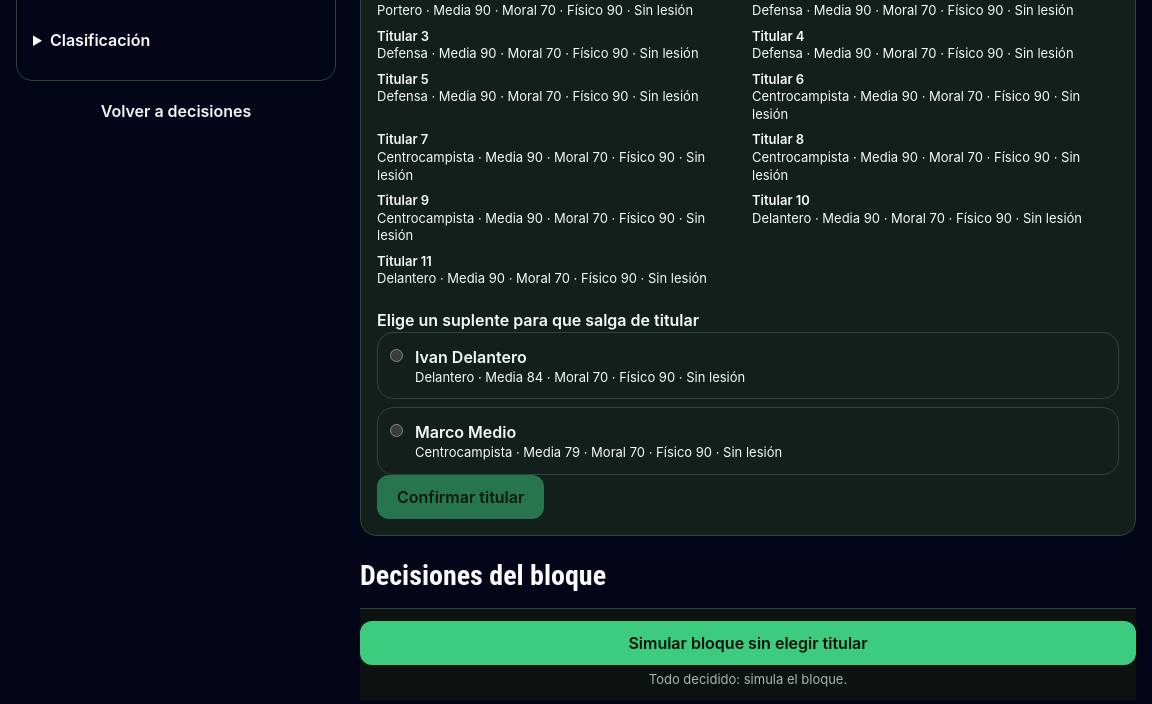
Test case: blocks selecting a starter while an advance has an uncertain outcome
(page scrolled)
Step 1. Click the button "Simular bloque sin elegir titular" → (748, 643), box [360, 621, 1136, 665]
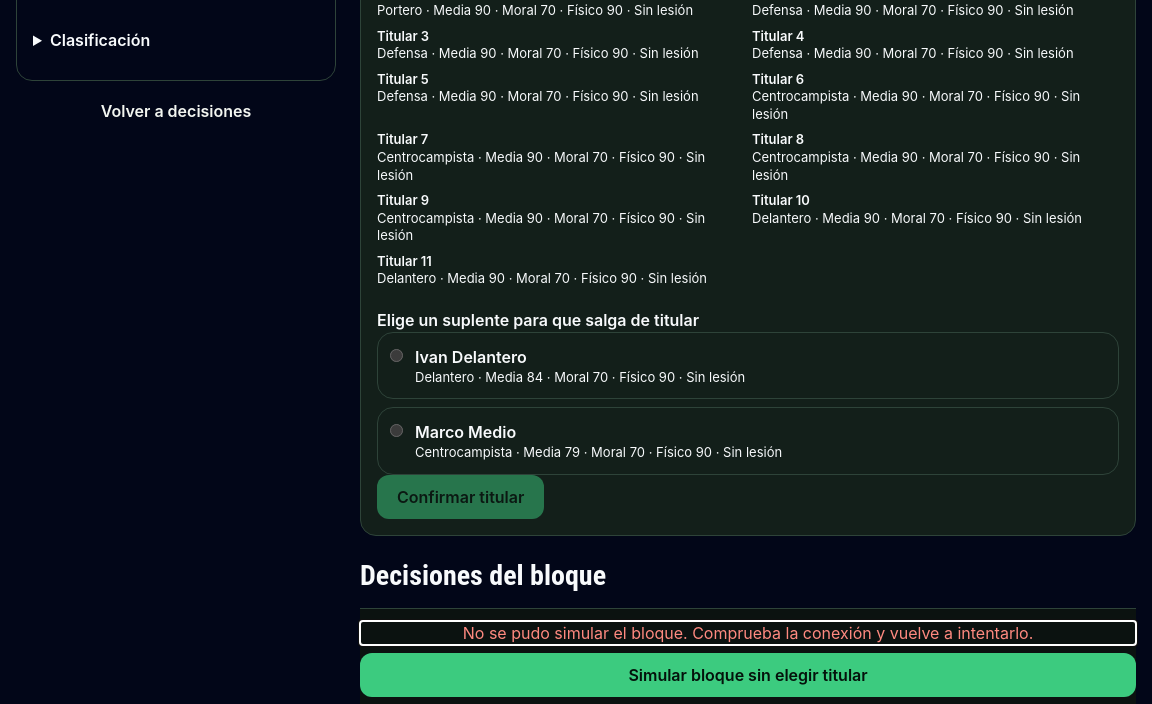
Expected: the 1st radio button is disabled, [390, 349, 403, 362]
Expected: the message shows "No se pudo simular", [463, 623, 1033, 643]
